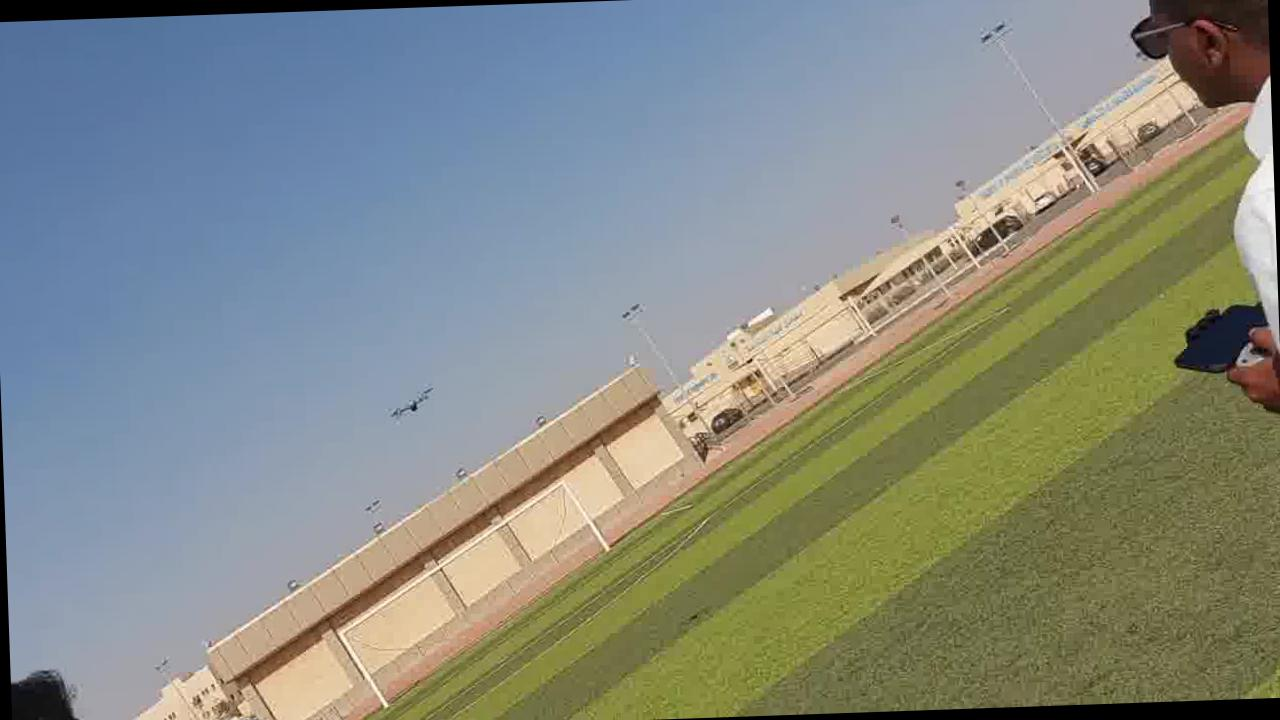drone: (384, 380, 442, 437)
